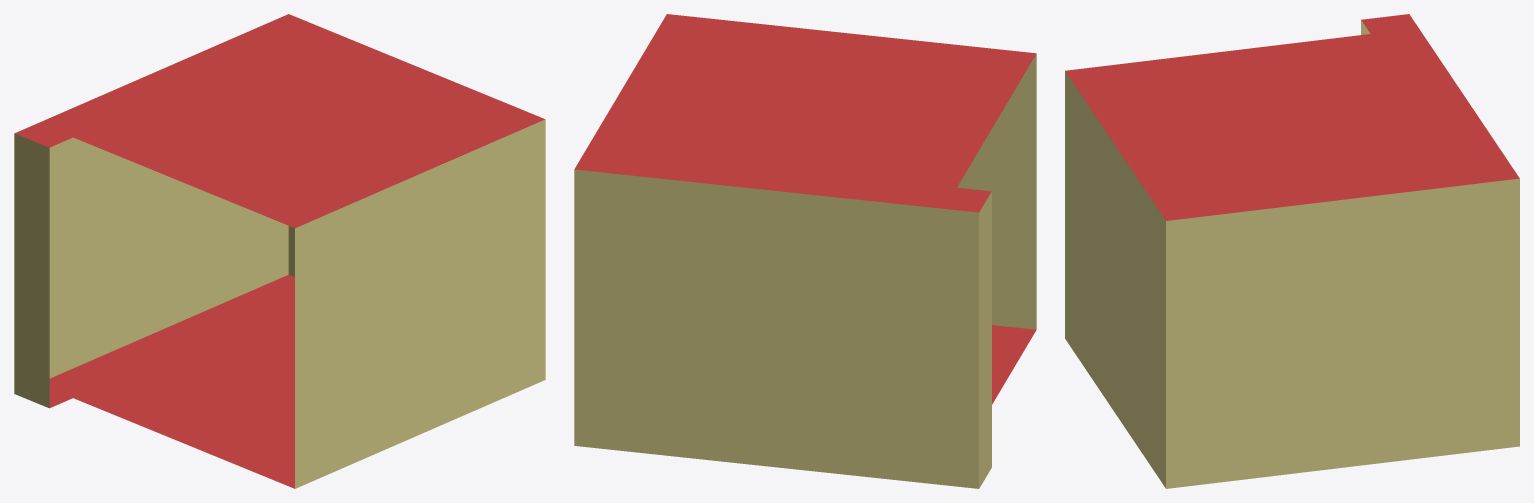
The picture shows the model from 3 angles, left to right: view 1: azimuth 30°, elevation 25°; view 2: azimuth 150°, elevation 25°; view 3: azimuth 270°, elevation 25°; orthographic projection. The views are drawn at different scales.
Size of the model in its own units: 10.23 by 9.5 by 6.17.
